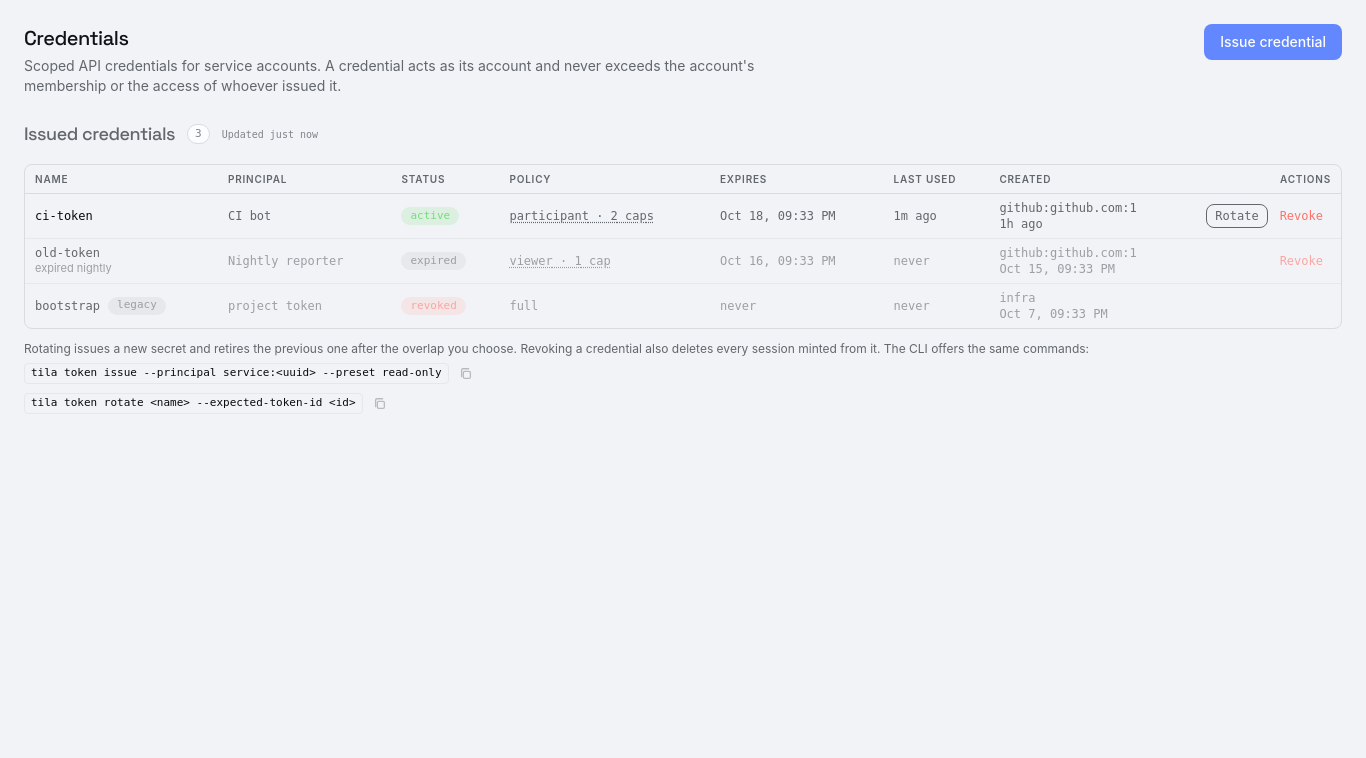
Scenario: issuing shows the secret once and never stores it
Click the button "Issue credential". click: click(1273, 42)
box: x1=1204 y1=24 x2=1342 y2=60
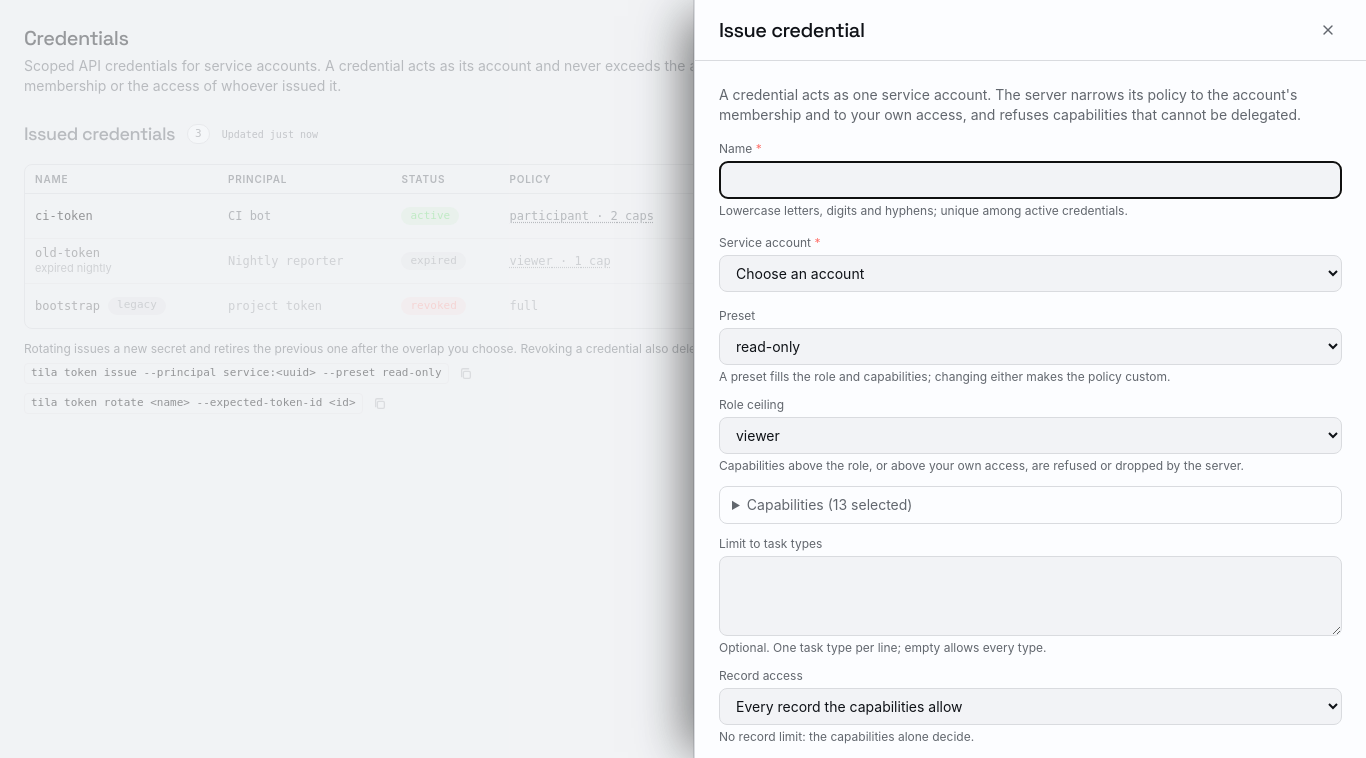
Type "deploy-bot" into the field labelled "Name *". click: (1030, 180)
box: x1=719 y1=161 x2=1342 y2=199
Select "CI bot (ci-bot)" in the dropdown labelled "Service account *". click: (1030, 274)
box: x1=719 y1=255 x2=1342 y2=292
(page scrolled)
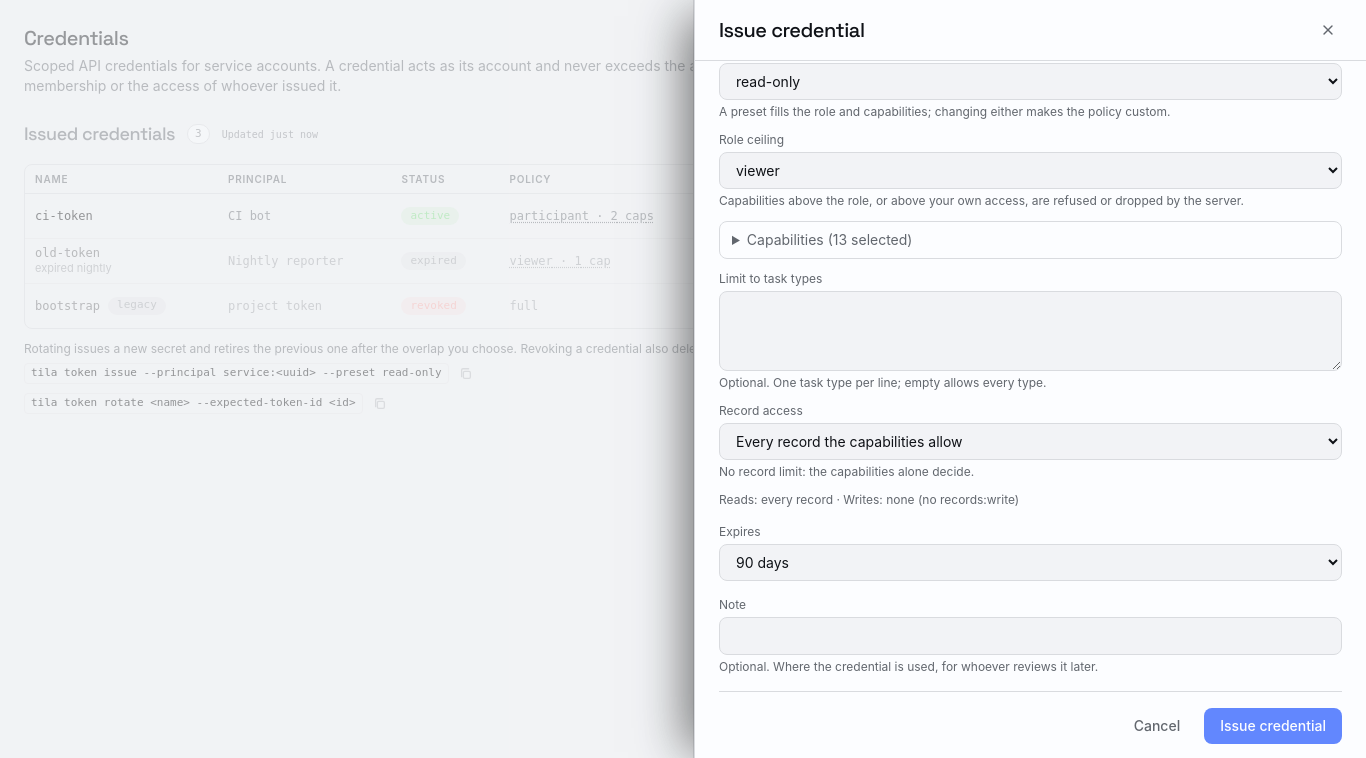
Select "30 days" in the dropdown labelled "Expires". click: (1030, 562)
box: x1=719 y1=544 x2=1342 y2=581
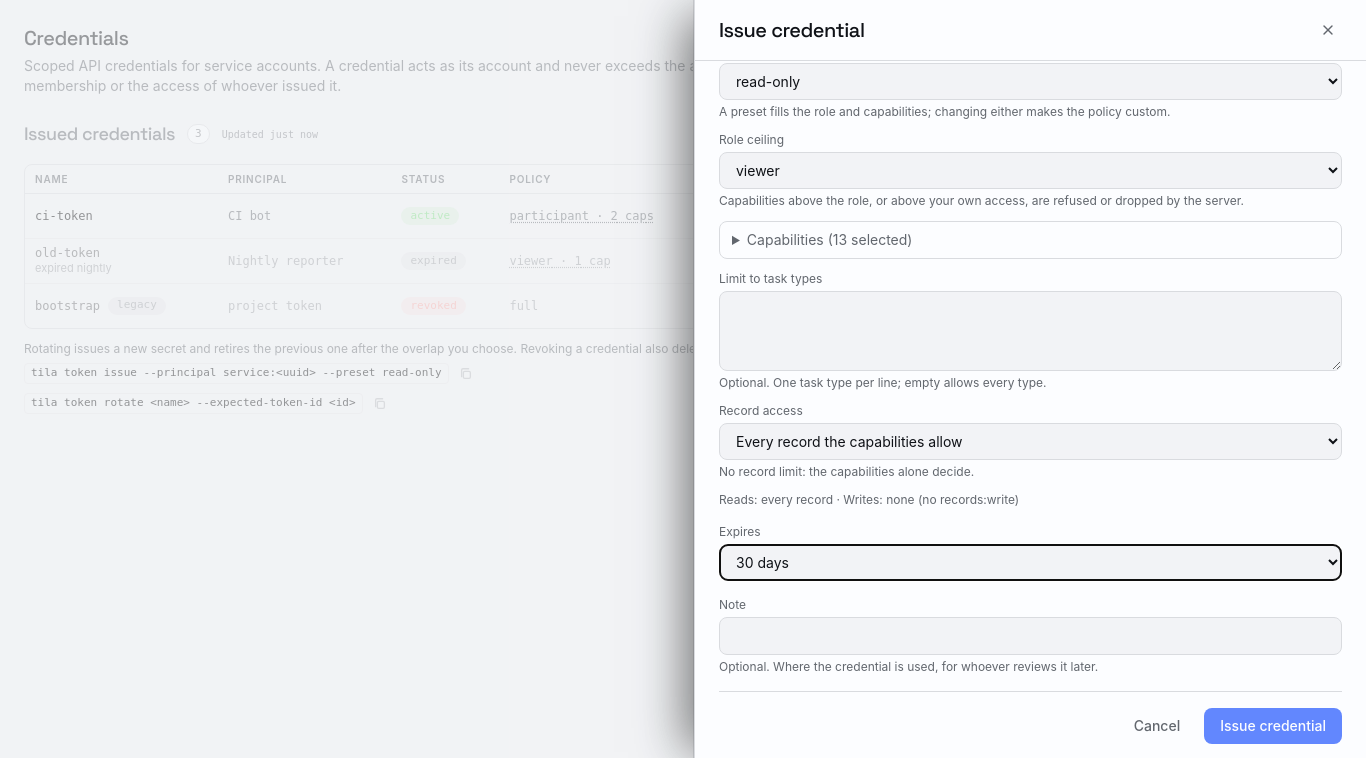
Type "deploys" into the field labelled "Note". click: (1030, 636)
box: x1=719 y1=617 x2=1342 y2=655
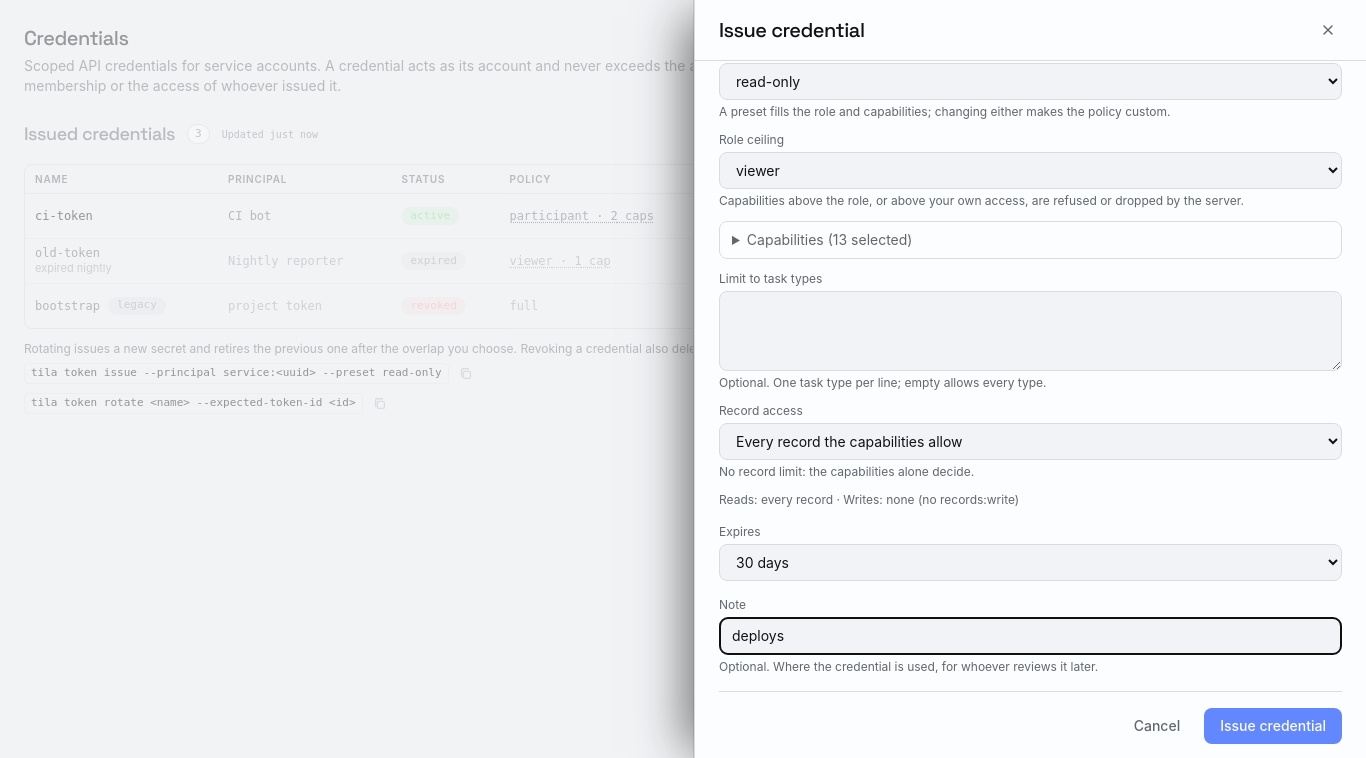
Click the button "Issue credential". click: click(1273, 726)
box: x1=1204 y1=708 x2=1342 y2=744
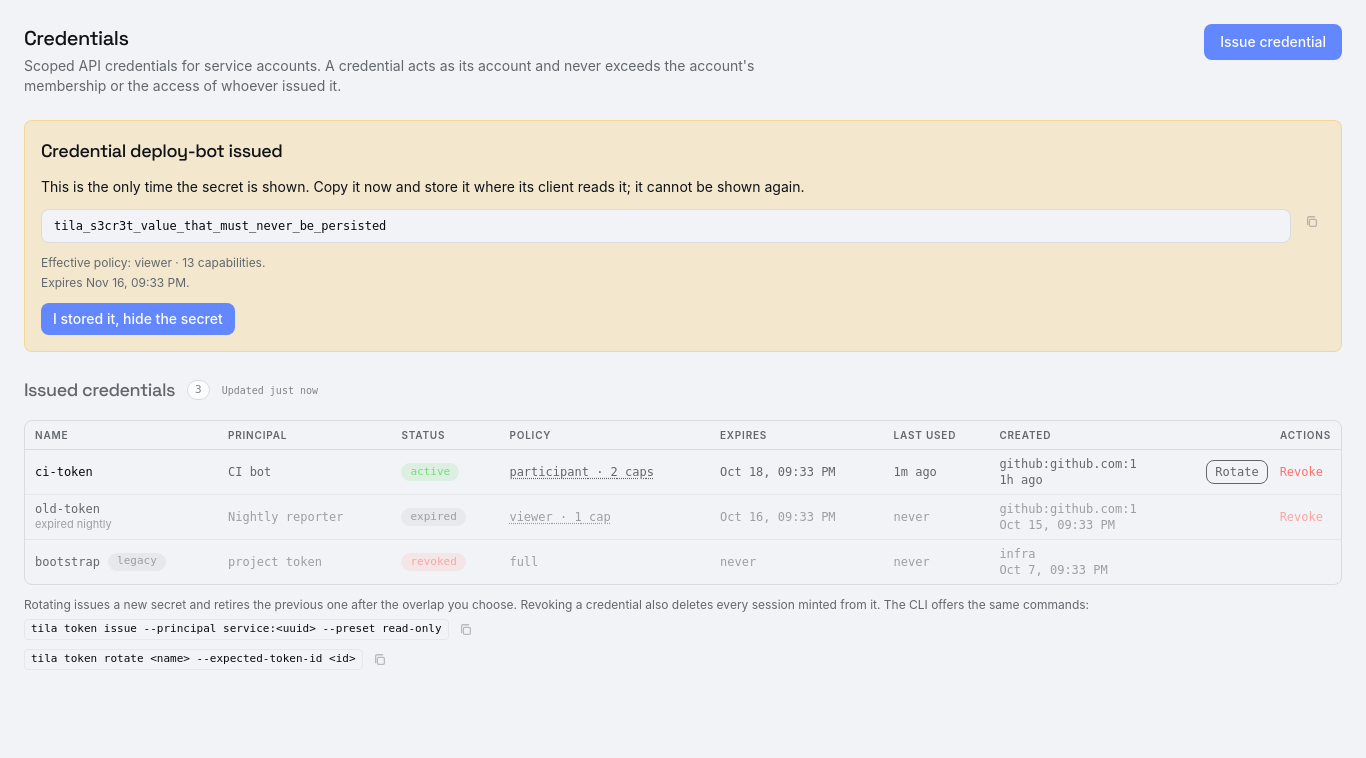
expect the text named "Secret" reads "tila_s3cr3t_value_that_must_never_be_persisted": met, box x1=54 y1=219 x2=386 y2=233
Click the button "I stored it, hide the secret". click: click(138, 319)
box: x1=41 y1=303 x2=235 y2=335
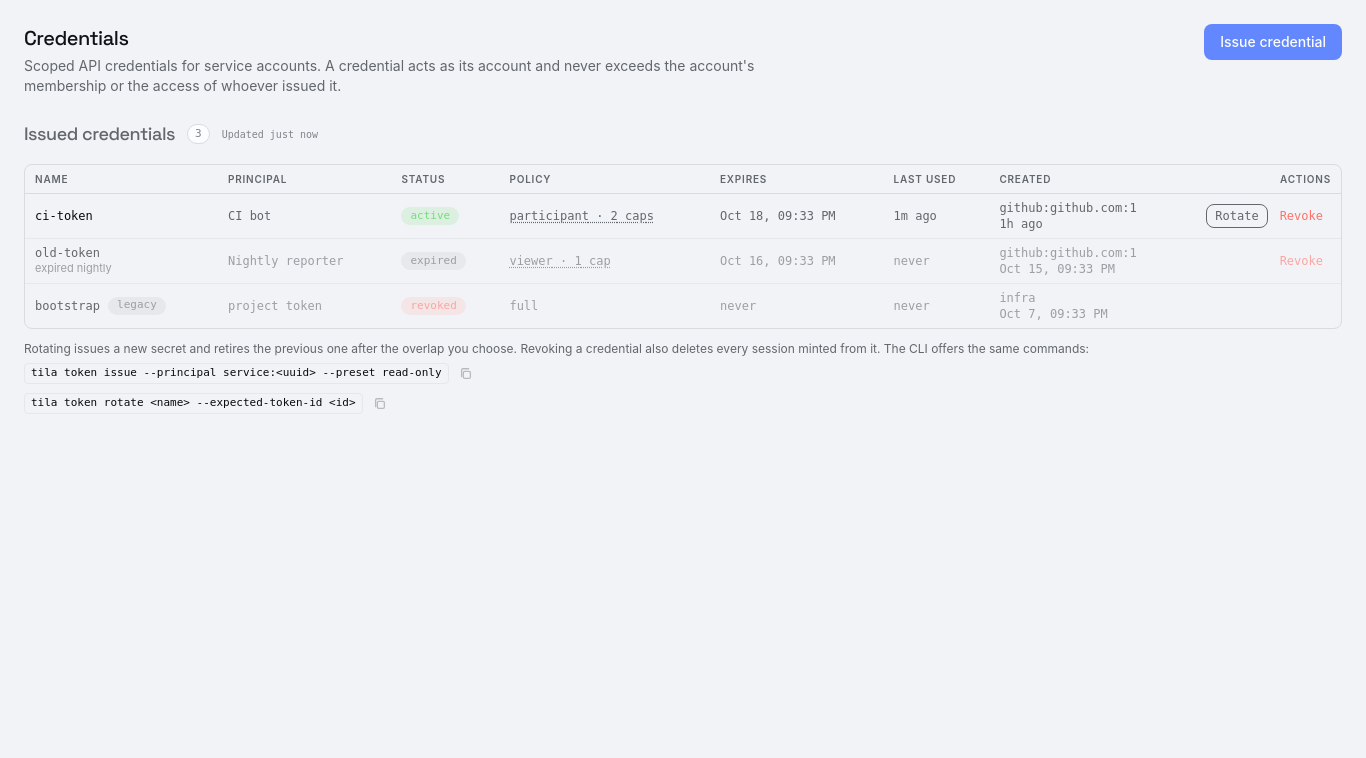
expect the text "tila_s3cr3t_value_that_must_never_be_persisted" is gone: met
